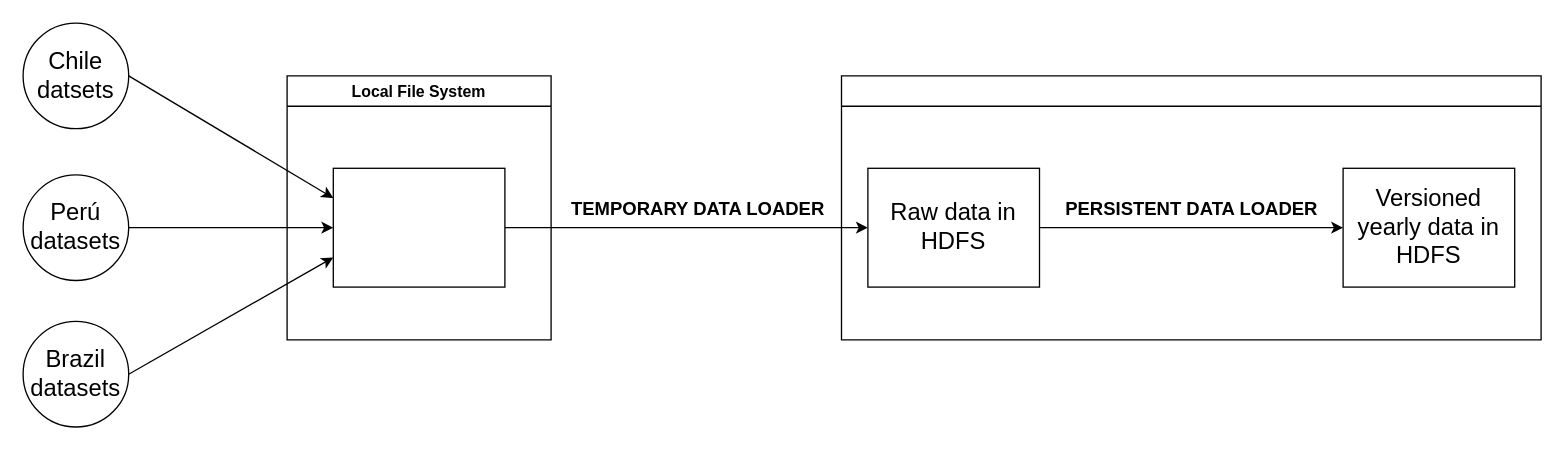
This 1564x450 diagram has some shape labels left out. The shapes that lost their labels are listed below. From the top down, each one's centre as x and y in pixels, then its label:
At point (418, 227): "Data retrieval".
At point (1190, 207): "HDFS".
